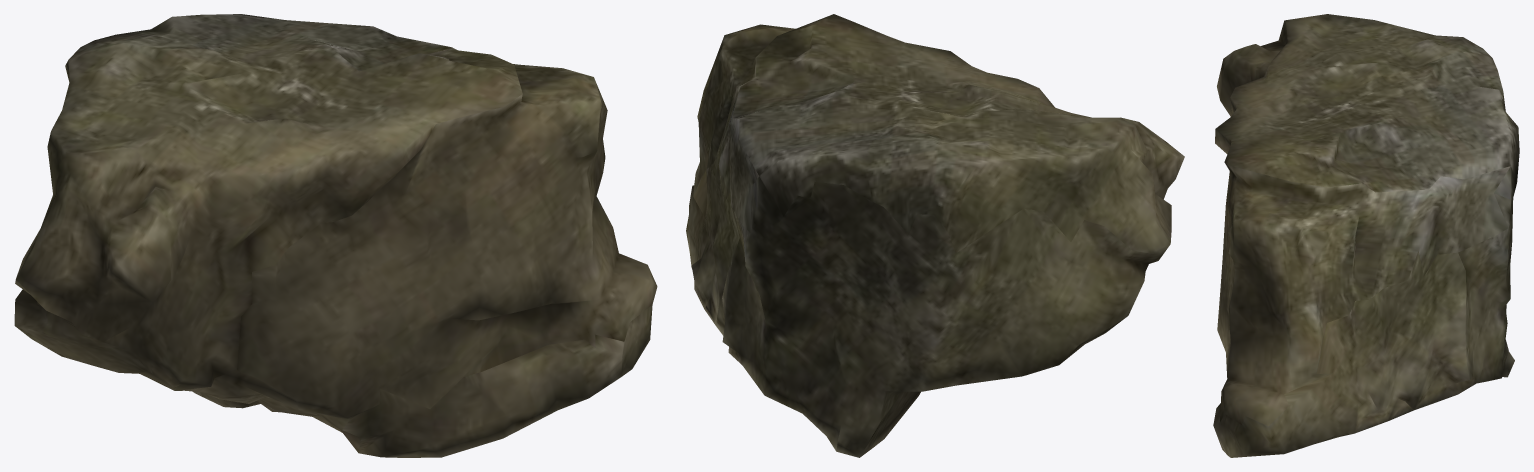
Rendered from mossrock_s3.gltf.
3 renders of one model, left to right at view 1: azimuth 30°, elevation 25°; view 2: azimuth 150°, elevation 25°; view 3: azimuth 270°, elevation 25°, orthographic. The views are drawn at different scales.
Parts seen in each view (by area): view 1: mossrock_s3; view 2: mossrock_s3; view 3: mossrock_s3.
Part boxes in pixels (box(x1,y1,x2,y2)): mossrock_s3: box(14, 14, 657, 457); mossrock_s3: box(686, 14, 1184, 457); mossrock_s3: box(1213, 14, 1519, 457).
Bounding box in the file's own units: 2.1 × 1.26 × 1.14.
1 material, 1 textured.
